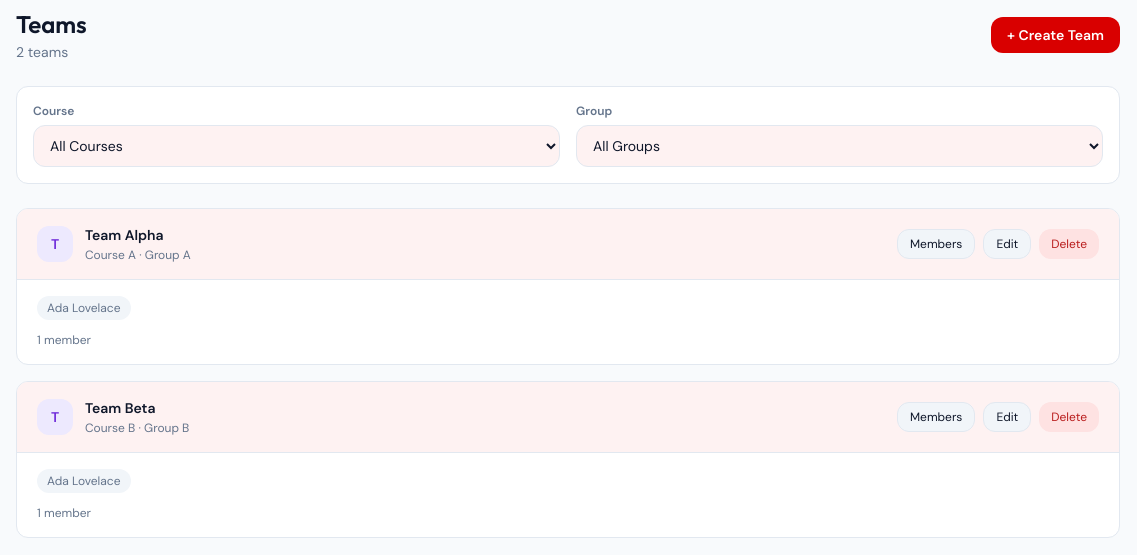
Test: AdminTeams › filters teams by course and group
The width and height of the screenshot is (1137, 555).
Expected: the text "Team Beta" is shown, [85,399,156,417]
Select "Course A" in the 1st dropdown showing "All Courses" at (296, 146), box [33,125,560,167]
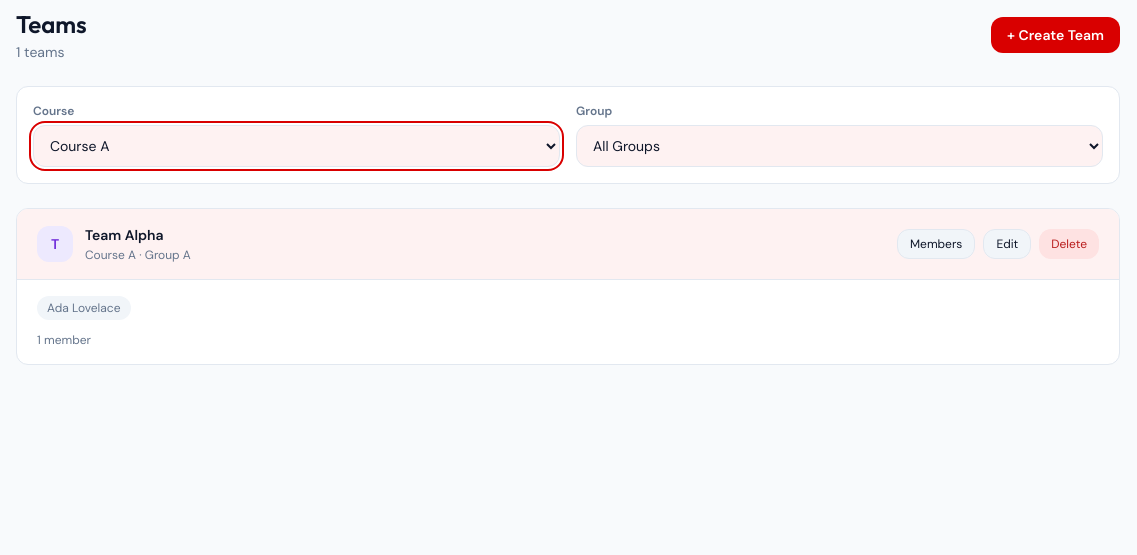
Expected: the text "Team Alpha" is shown, [85,226,164,244]
Now the text "Team Beta" is gone
Now the text "1 teams" is shown, box [16,43,64,61]
